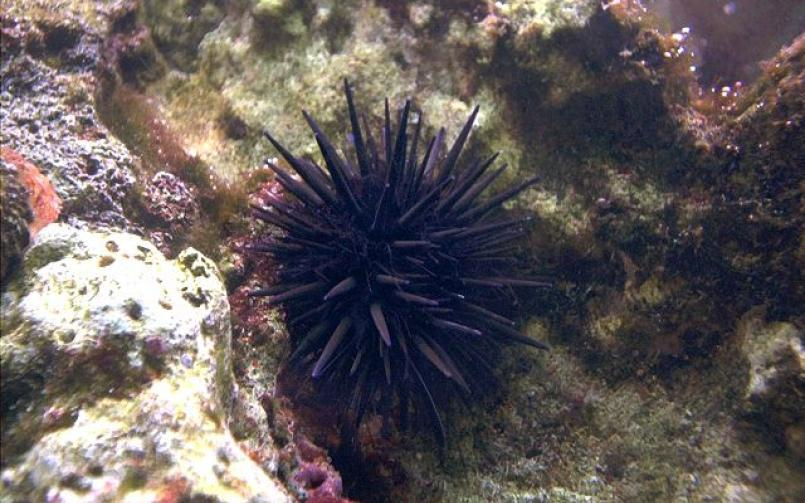urchin: (236, 72, 559, 449)
